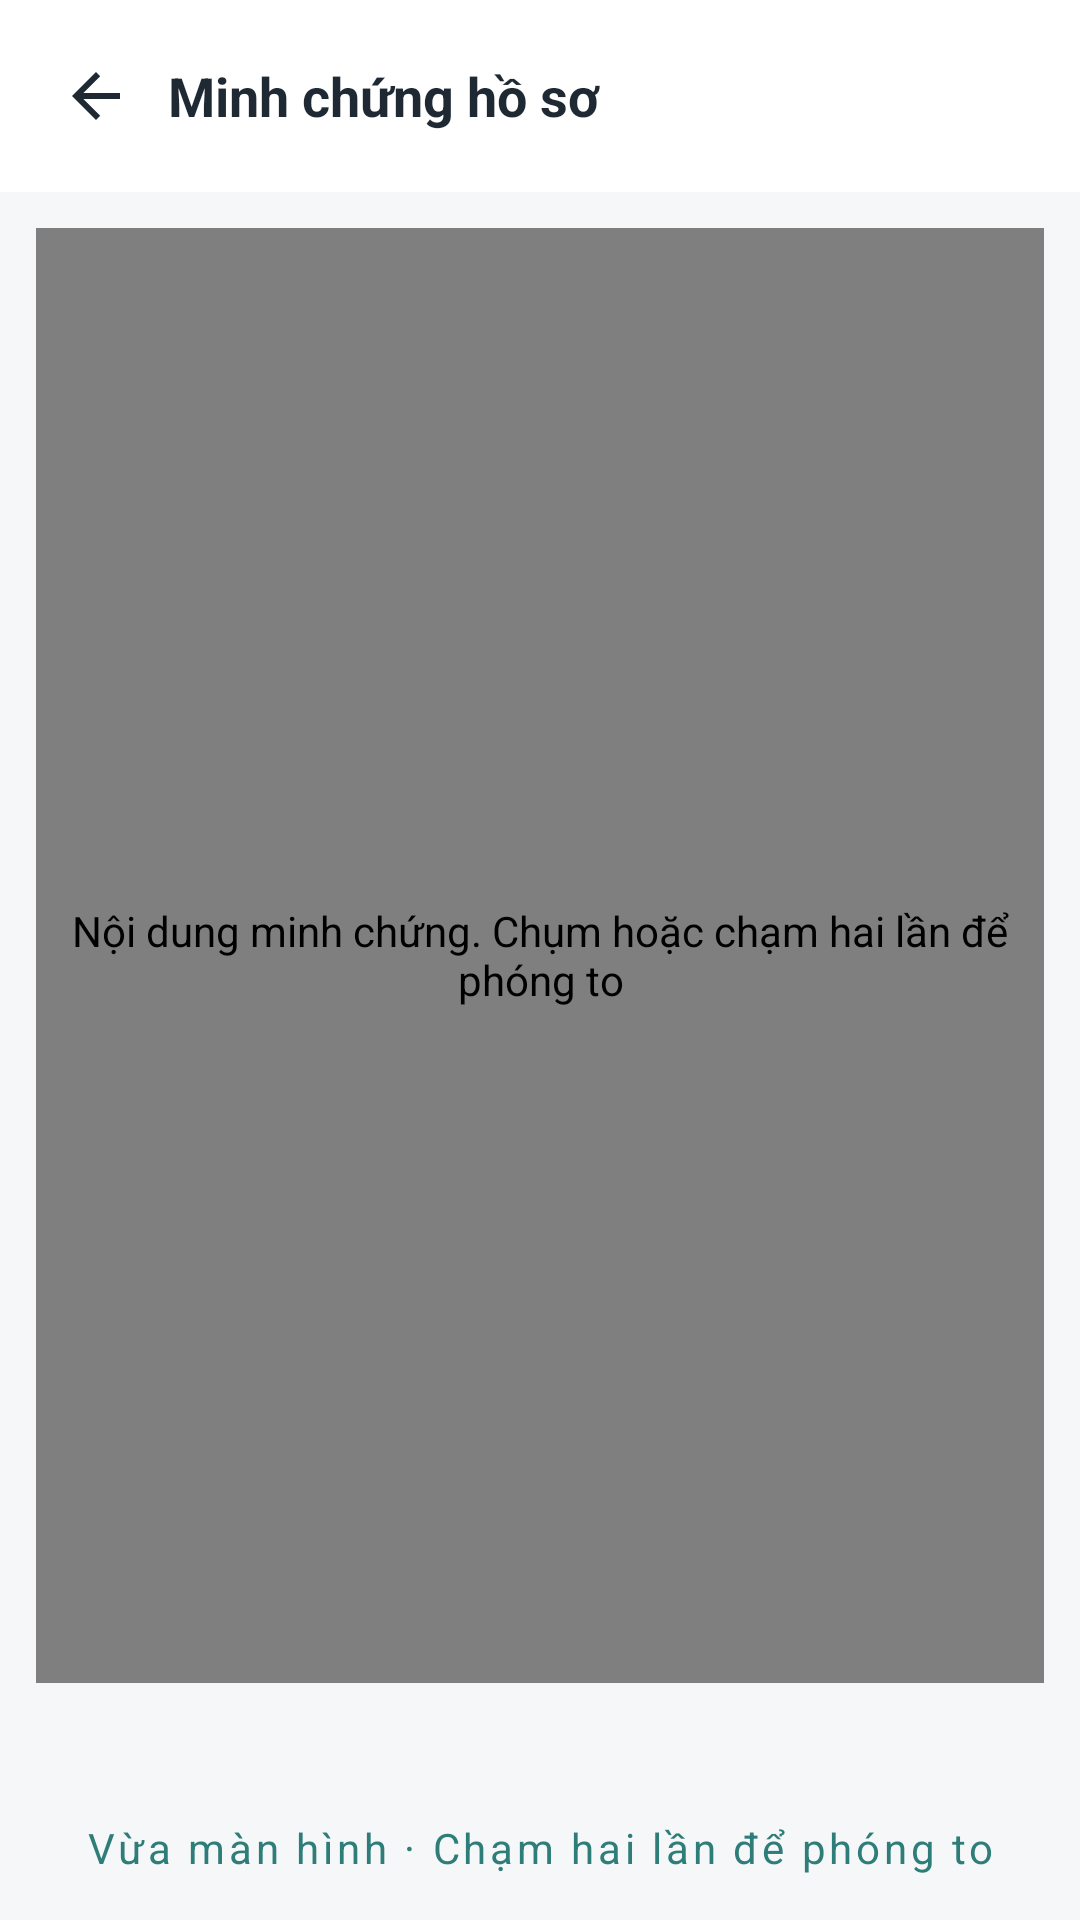

Icon bounding boxes for this 1080w x 1920h phone screenshot, format (x1, y1, x2, y2):
Quay lại hồ sơ: (72, 72, 120, 120)
